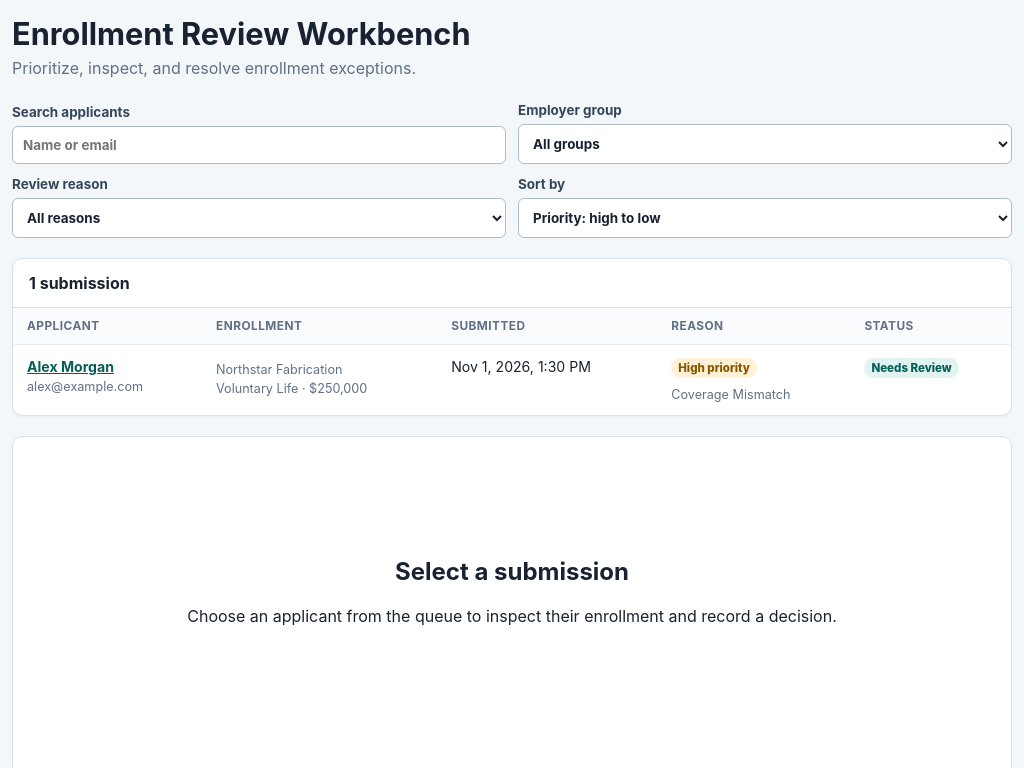
Test: uses priority ordering by default and shows the selected submission details
Check: the text "Alex Morgan" is shown, box [27,358,114,375]
What coordinates should you click on to do the following:
click the button "Alex Morgan alex@example.com"
I would click on:
 (108, 376)
Its box is [27,358,188,394].
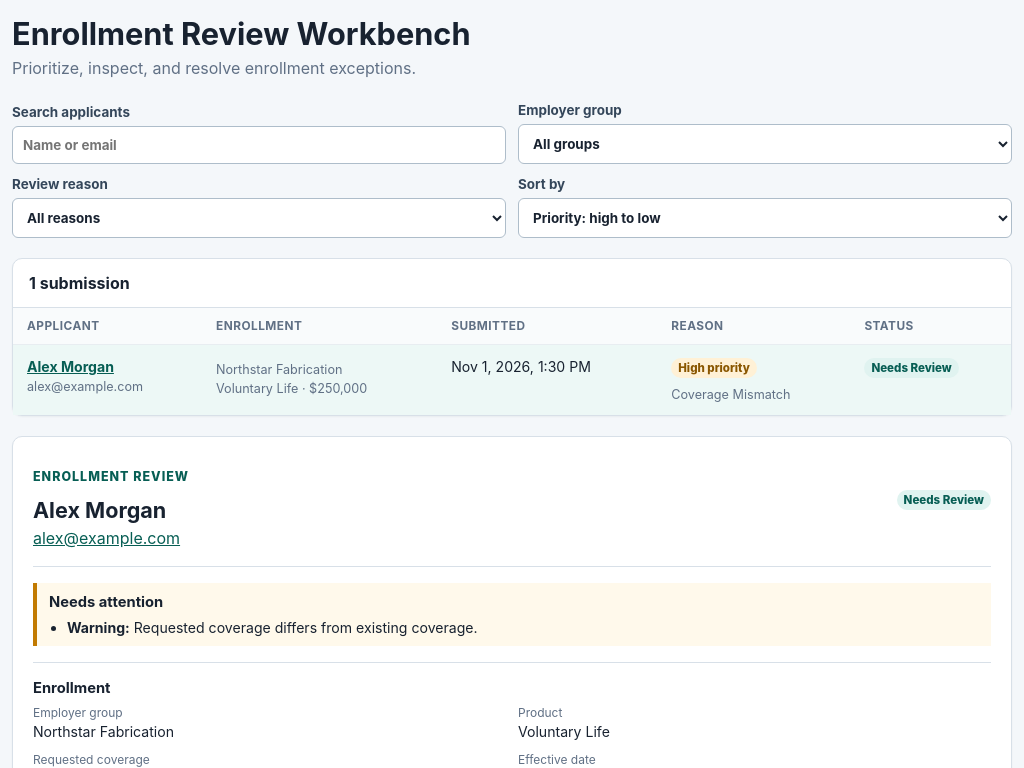
Check: the list item "Requested coverage differs from existing coverage." is shown, box [134,619,478,636]
